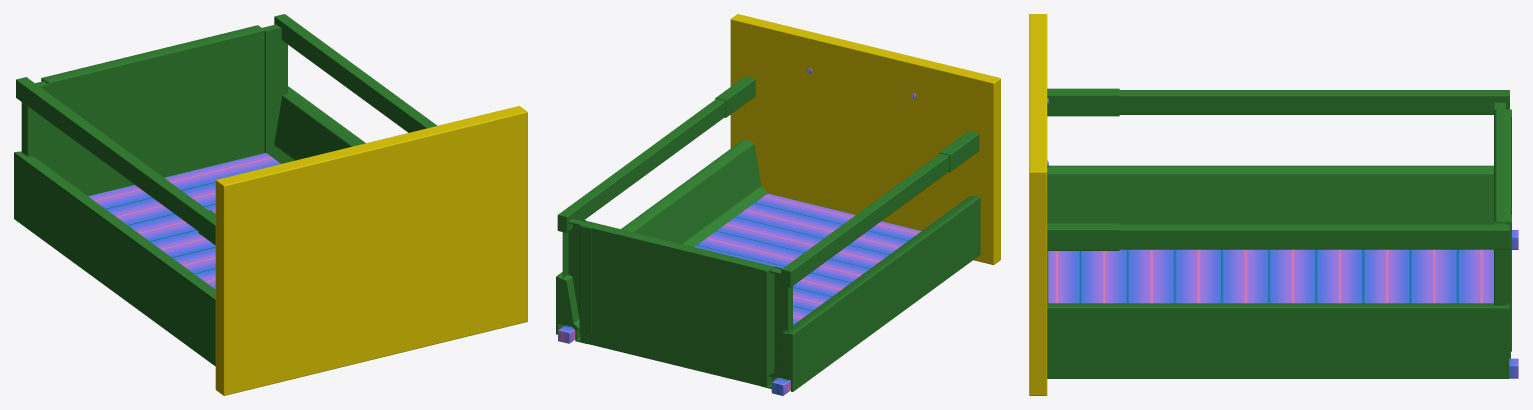
The model's file is SM_Kitchen_06_Base_Drawer_02.fbx.
3 views of the same model, side by side, from view 1: azimuth 30°, elevation 25°; view 2: azimuth 150°, elevation 25°; view 3: azimuth 270°, elevation 25° (orthographic). The views are drawn at different scales.
Parts seen in each view (by area): view 1: SM_Kitchen_06_Base_Drawer_02; view 2: SM_Kitchen_06_Base_Drawer_02; view 3: SM_Kitchen_06_Base_Drawer_02.
Part boxes in pixels (<box>): SM_Kitchen_06_Base_Drawer_02: <box>14,14,527,395</box>; SM_Kitchen_06_Base_Drawer_02: <box>556,14,1000,395</box>; SM_Kitchen_06_Base_Drawer_02: <box>1029,14,1518,395</box>.
Bounding box in the file's own units: 39.8 × 26.3 × 51.99.
Materials: 4 (2 with a texture image).
